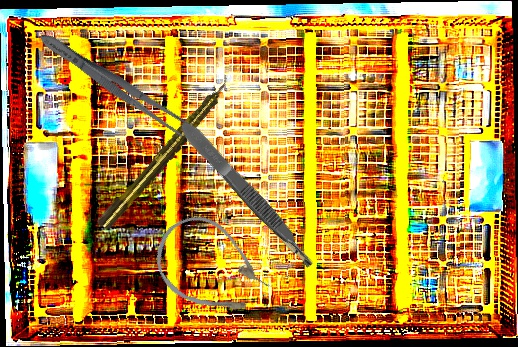Cannula: (140, 201, 283, 337)
Dressing Forceps: (34, 26, 194, 141)
Handpiece: (94, 73, 238, 233)
Scalpel Handle: (214, 152, 314, 279)
Tissue Forceps: (176, 117, 319, 272)
